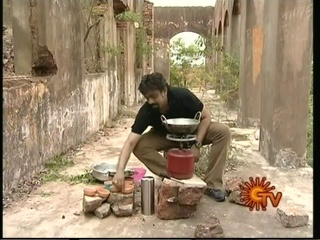person: (111, 71, 231, 214)
